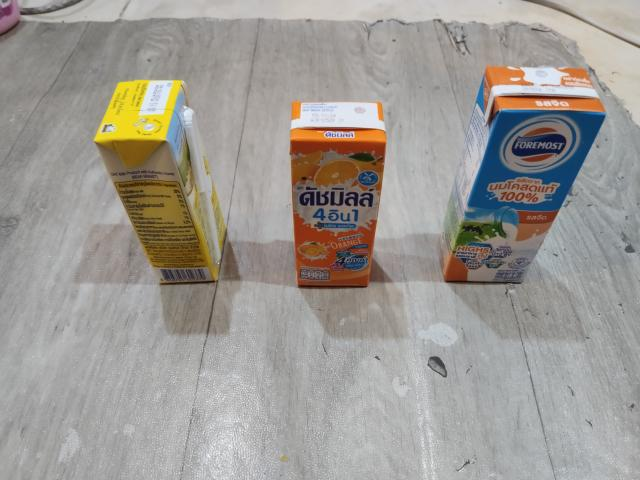drink_box: (430, 60, 612, 288), (88, 75, 234, 288), (287, 96, 388, 293)
